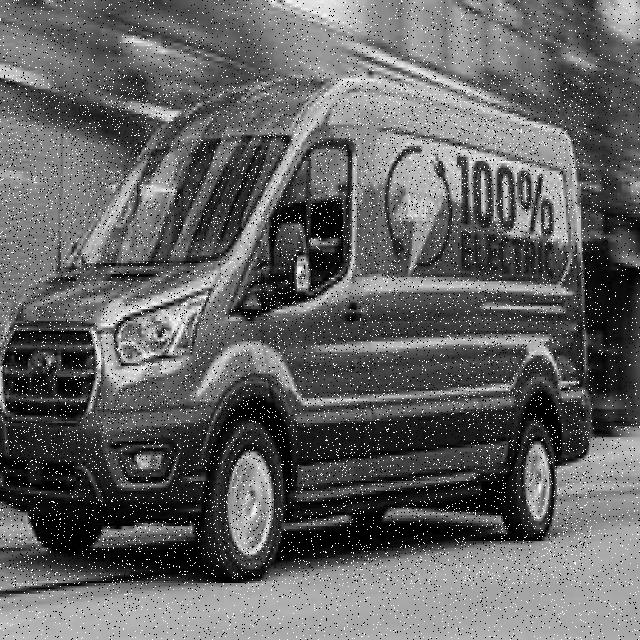Van: (0, 75, 594, 585)
